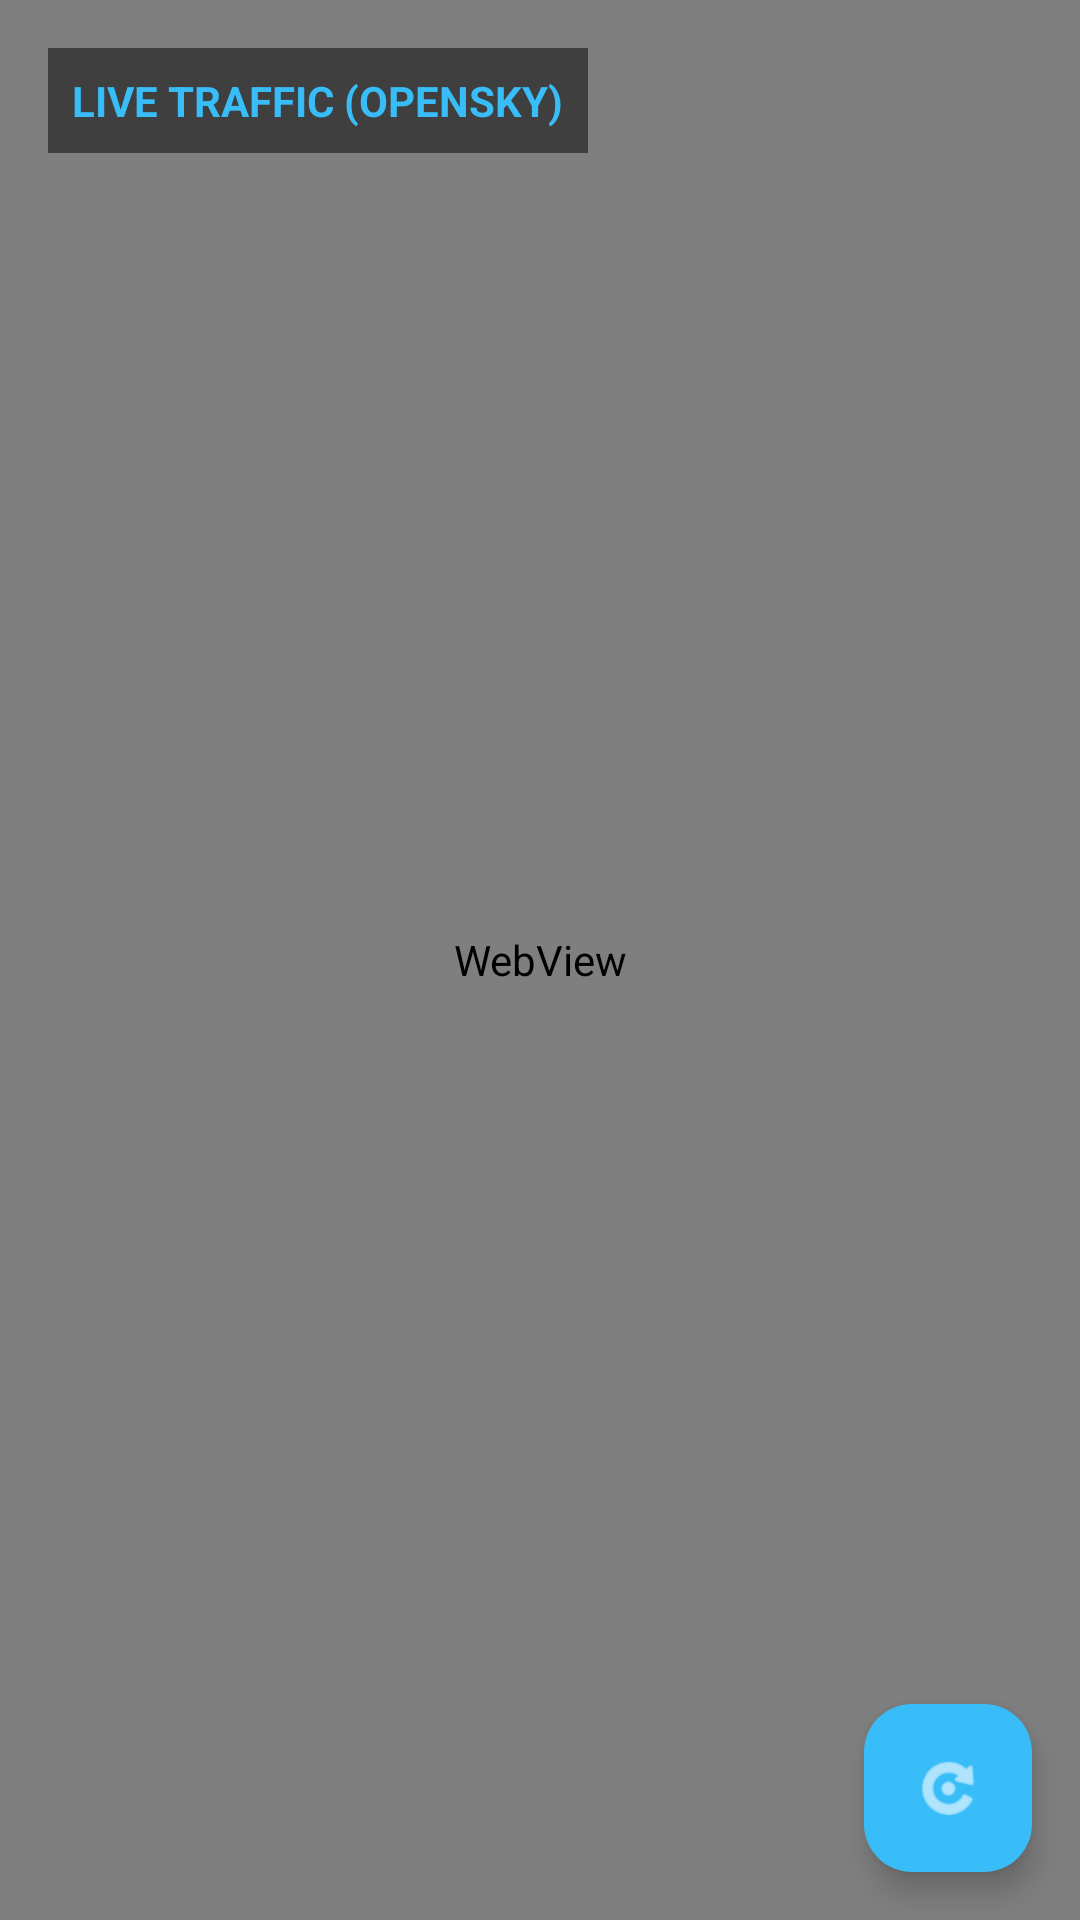

Named icons in this screenshot (1080 × 1920) and their bounding boxes, (x1, y1, x2, y2):
Refresh Radar: (864, 1704, 1032, 1872)
